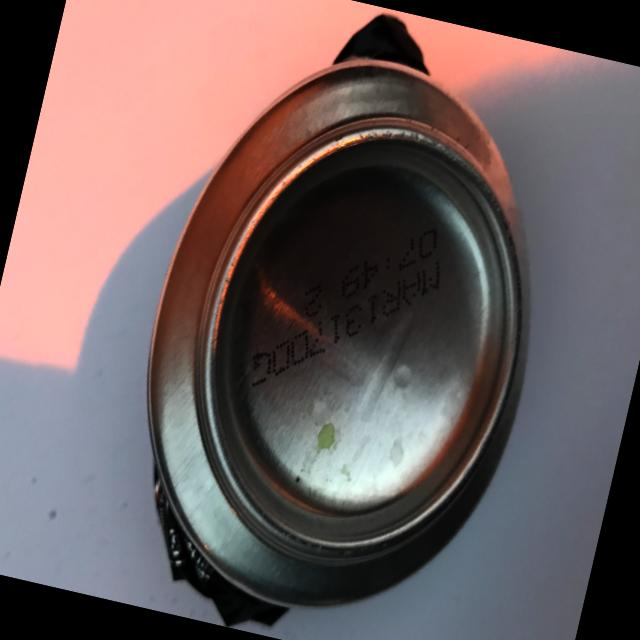Metal: (81, 0, 608, 640)
